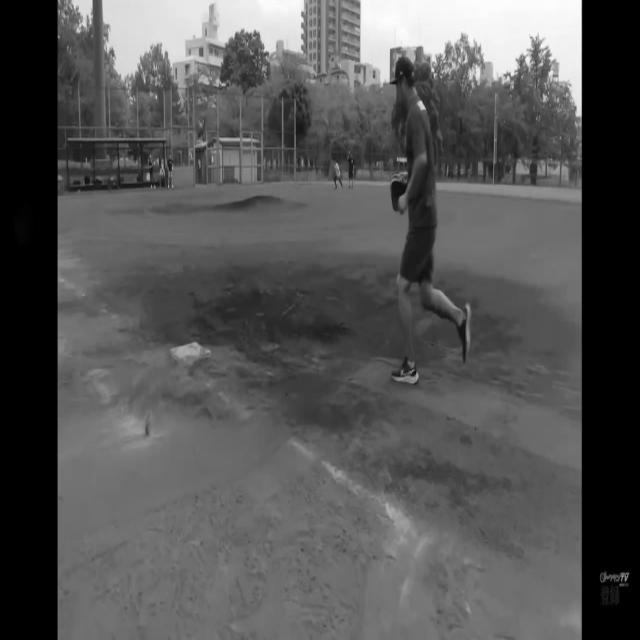base: (170, 342, 215, 362)
baseball_glove: (392, 173, 408, 209)
shoe: (455, 301, 472, 367), (390, 358, 421, 390)
